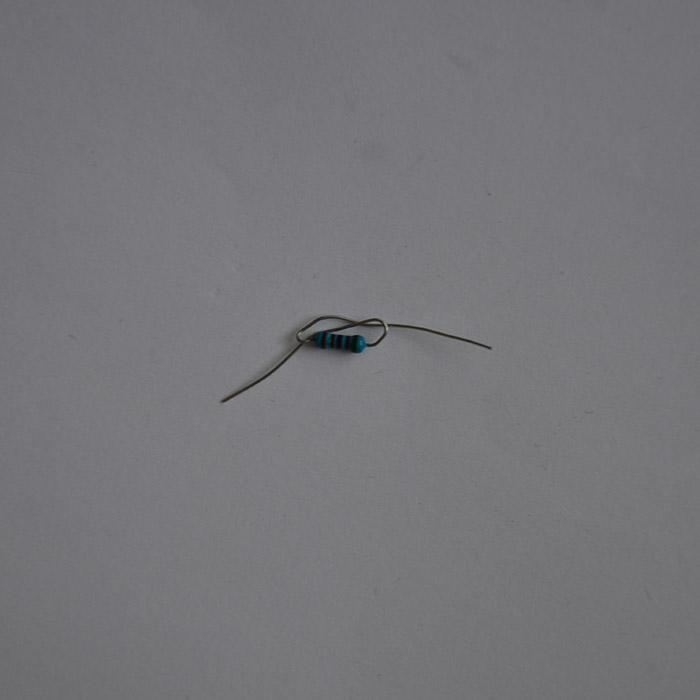resistor: (313, 330, 365, 353)
